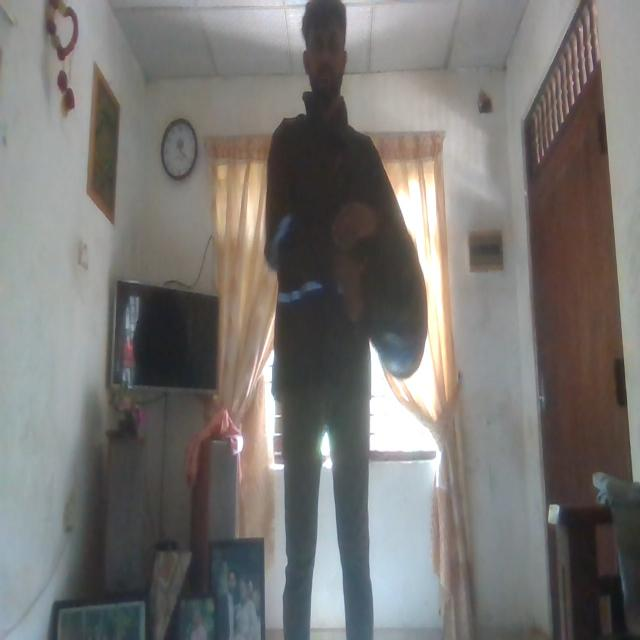Jacket_Wearer: (258, 93, 414, 416)
Person: (256, 4, 412, 640)
